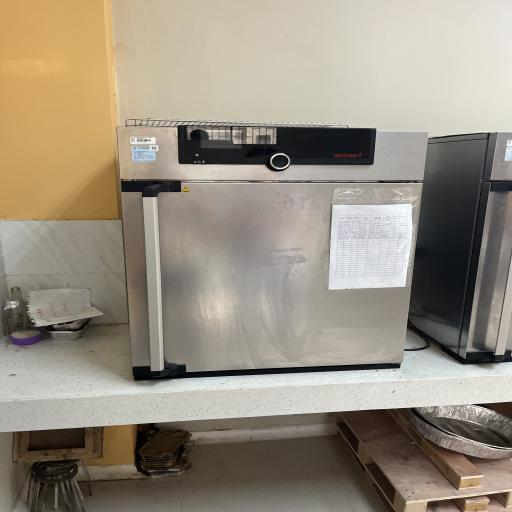Memmert_Unidad2: (109, 112, 434, 380)
